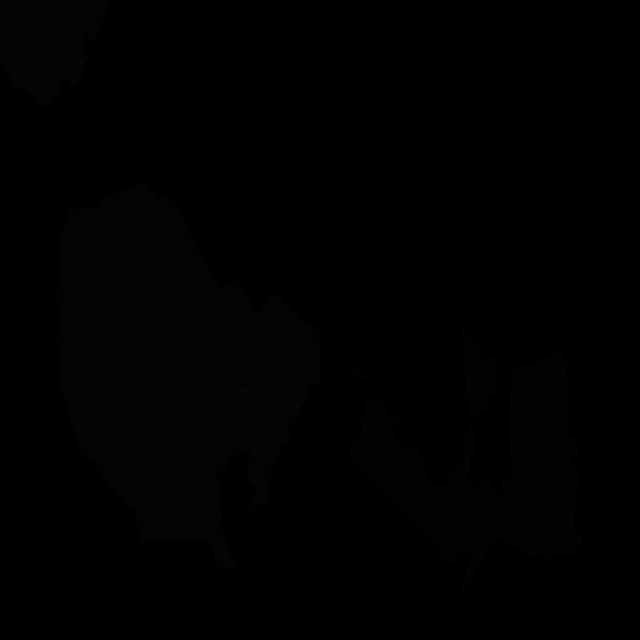cardboard: (349, 391, 450, 550), (508, 350, 584, 561), (437, 401, 520, 593), (461, 326, 497, 417), (568, 436, 584, 496), (347, 367, 371, 381)
soft_plastic: (57, 182, 259, 570), (189, 295, 320, 473), (248, 463, 272, 508)
